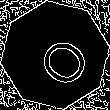O_NW: (22, 22, 88, 88)
